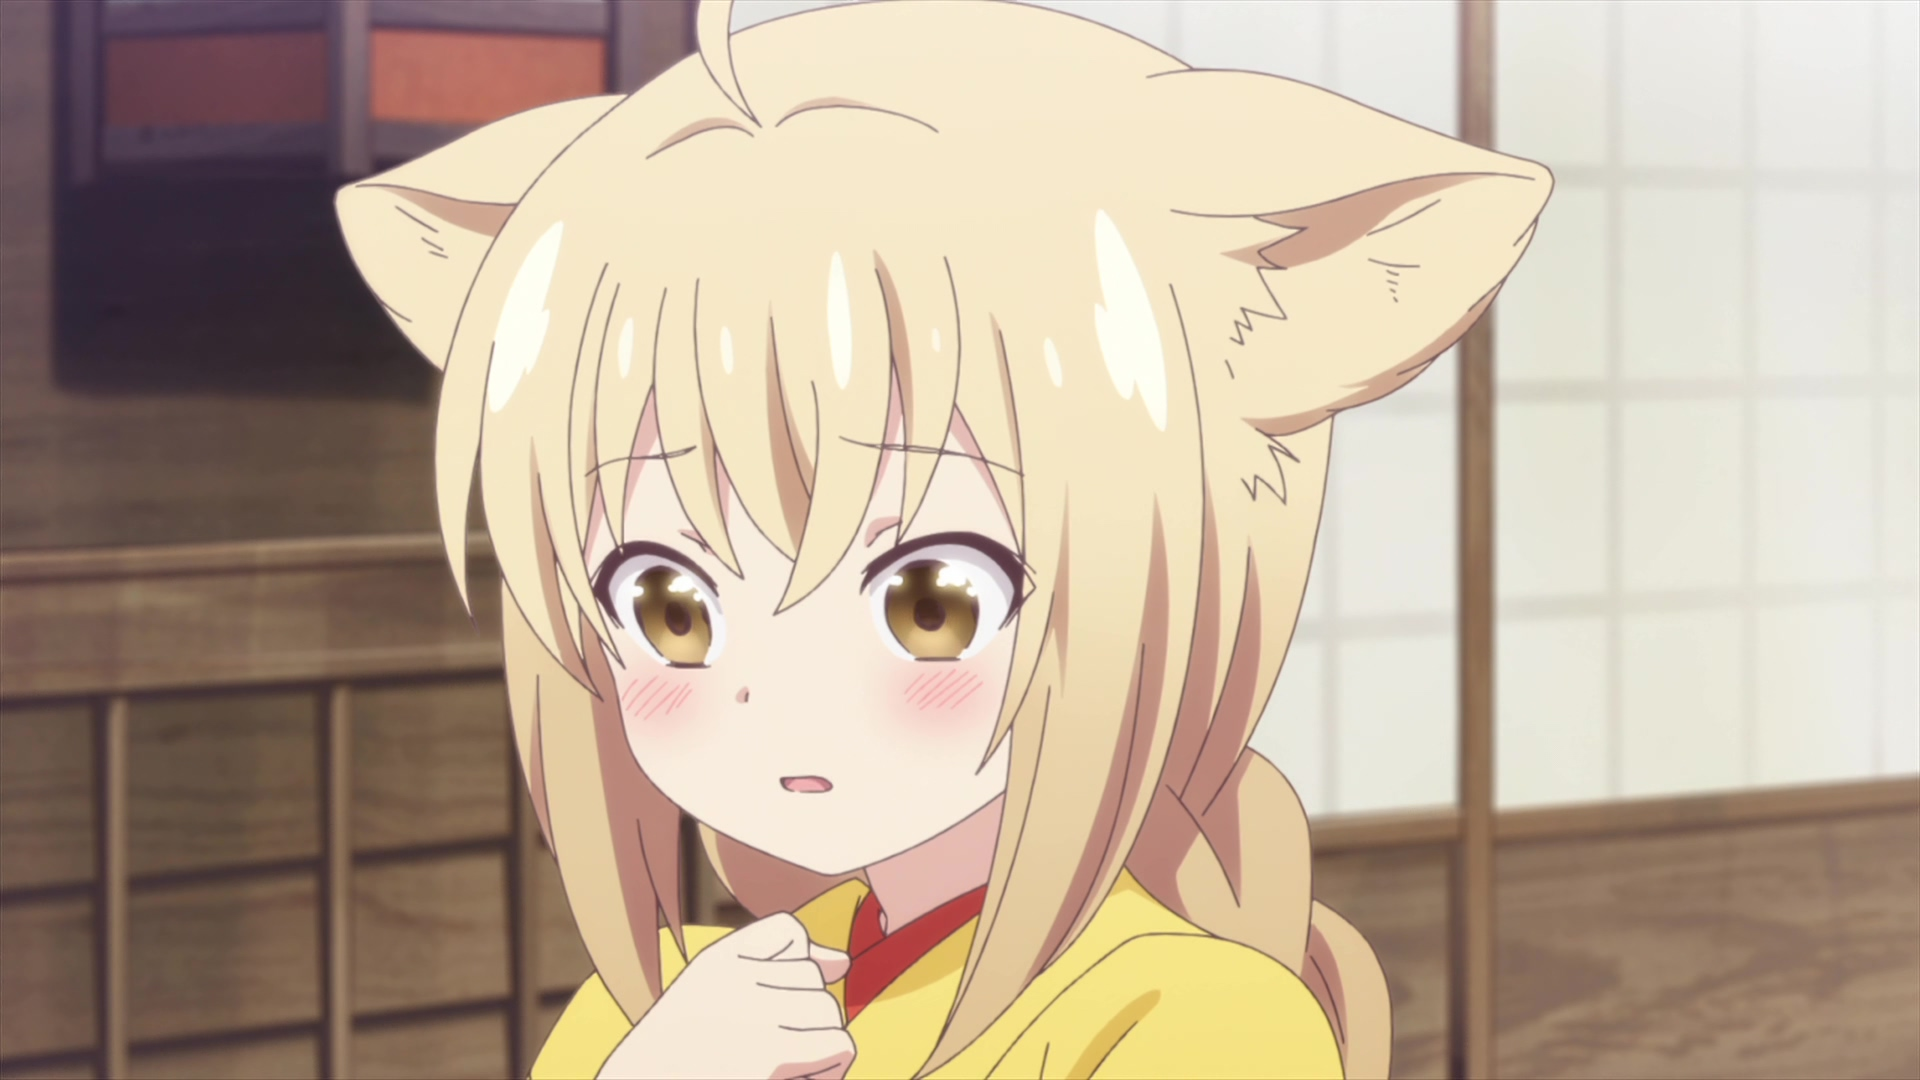柚: (336, 1, 1553, 1080)
